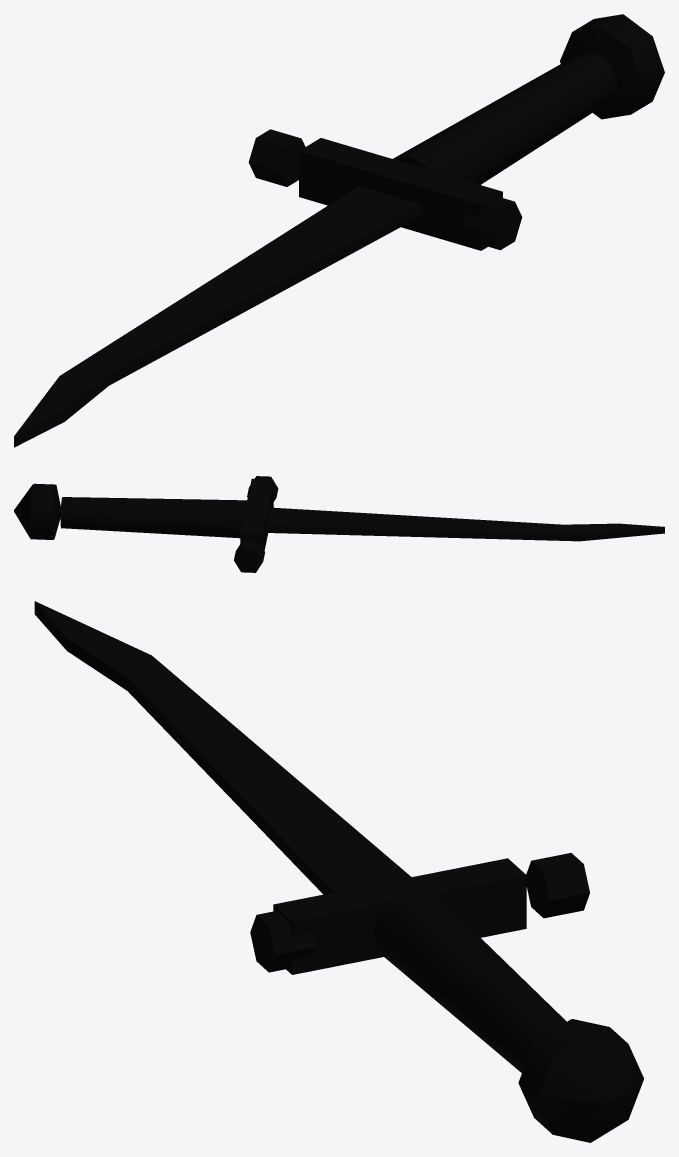
File: SM_ritual_dagger.fbx
3 renders of one model, top to bottom at view 1: azimuth 30°, elevation 25°; view 2: azimuth 150°, elevation 25°; view 3: azimuth 270°, elevation 25°, orthographic. The views are drawn at different scales.
Visible parts, largest first — view 1: ritual_dagger; view 2: ritual_dagger; view 3: ritual_dagger.
Boxes of the visible parts, x1,y1,x2,y2 form: ritual_dagger: (14,14,664,447); ritual_dagger: (14,476,664,572); ritual_dagger: (34,601,643,1142).
Size of the model in its own units: 0.3175 by 0.032 by 0.1649.
